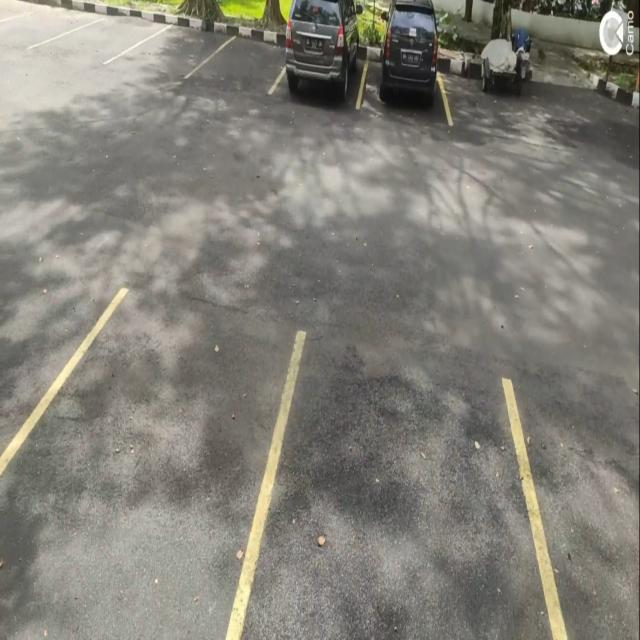empty: (15, 289, 275, 640), (255, 339, 532, 640), (210, 15, 286, 94), (55, 6, 140, 68), (140, 10, 210, 81)
occupied: (359, 0, 446, 106), (280, 0, 364, 103)
